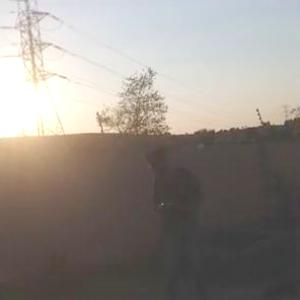follow: (144, 141, 208, 299)
